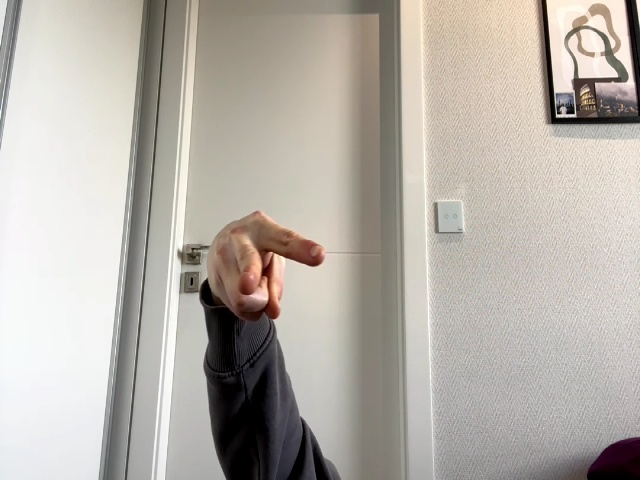U: (207, 211, 325, 321)
